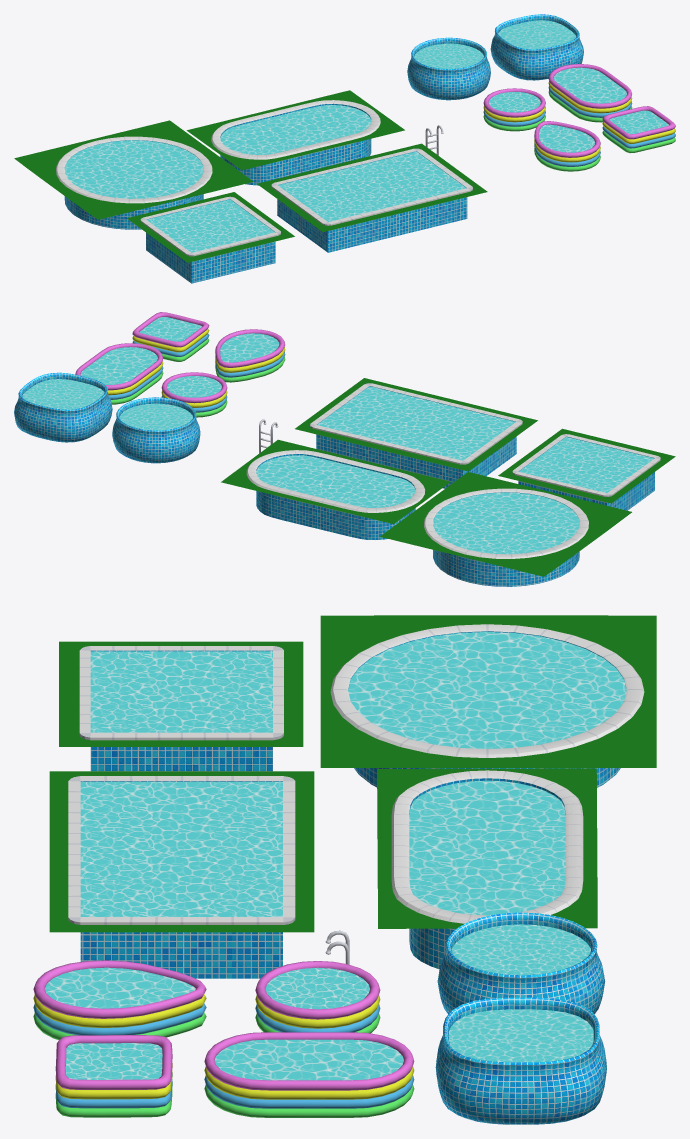
The model's file is pools.fbx.
The picture shows the model from 3 angles, top to bottom: view 1: azimuth 30°, elevation 25°; view 2: azimuth 150°, elevation 25°; view 3: azimuth 270°, elevation 25°; orthographic projection. The views are drawn at different scales.
Visible parts, largest first — view 1: Pool 2, Pool 4, Water Pool 2, Pool 1, Water Pool 4, Pool 3, Water Pool 1, Water Pool 3, Pool 6, Pool 5, Pool 10, Pool 9 (+8 smaller); view 2: Pool 4, Pool 1, Water Pool 2, Pool 2, Water Pool 4, Water Pool 1, Pool 3, Water Pool 3, Pool 6, Pool 5, Water Pool 10, Pool 8 (+8 smaller); view 3: Water Pool 2, Pool 4, Water Pool 4, Pool 2, Water Pool 1, Pool 1, Pool 3, Water Pool 3, Pool 6, Pool 10, Pool 5, Pool 8 (+8 smaller).
Part boxes in pixels (x1=…): Pool 2: x1=257, y1=143, x2=487, y2=252; Pool 4: x1=14, y1=120, x2=253, y2=229; Water Pool 2: x1=278, y1=151, x2=466, y2=221; Pool 1: x1=186, y1=90, x2=404, y2=185; Water Pool 4: x1=64, y1=140, x2=203, y2=198; Pool 3: x1=127, y1=192, x2=294, y2=283; Water Pool 1: x1=220, y1=105, x2=371, y2=154; Water Pool 3: x1=146, y1=199, x2=274, y2=252; Pool 6: x1=490, y1=14, x2=583, y2=80; Pool 5: x1=407, y1=37, x2=490, y2=100; Pool 10: x1=548, y1=64, x2=632, y2=122; Pool 9: x1=602, y1=106, x2=675, y2=153; Pool 4: x1=380, y1=472, x2=631, y2=586; Pool 1: x1=221, y1=439, x2=450, y2=539; Water Pool 2: x1=317, y1=386, x2=515, y2=460; Pool 2: x1=295, y1=378, x2=537, y2=488; Water Pool 4: x1=433, y1=492, x2=579, y2=554; Water Pool 1: x1=256, y1=455, x2=415, y2=507; Pool 3: x1=498, y1=428, x2=675, y2=510; Water Pool 3: x1=519, y1=437, x2=654, y2=493; Pool 6: x1=14, y1=372, x2=112, y2=442; Pool 5: x1=112, y1=397, x2=200, y2=463; Water Pool 10: x1=80, y1=347, x2=157, y2=384; Pool 8: x1=215, y1=329, x2=285, y2=382; Water Pool 2: x1=80, y1=782, x2=282, y2=916; Pool 4: x1=320, y1=615, x2=656, y2=787; Water Pool 4: x1=348, y1=632, x2=626, y2=748; Pool 2: x1=49, y1=771, x2=314, y2=978; Water Pool 1: x1=409, y1=780, x2=565, y2=915; Pool 1: x1=377, y1=768, x2=597, y2=969; Pool 3: x1=59, y1=641, x2=303, y2=771; Water Pool 3: x1=90, y1=651, x2=272, y2=732; Pool 6: x1=435, y1=997, x2=606, y2=1124; Pool 10: x1=204, y1=1032, x2=414, y2=1117; Pool 5: x1=437, y1=912, x2=605, y2=1014; Pool 8: x1=33, y1=960, x2=206, y2=1039.
Size of the model in its own units: 35.86 by 4.05 by 18.36.
